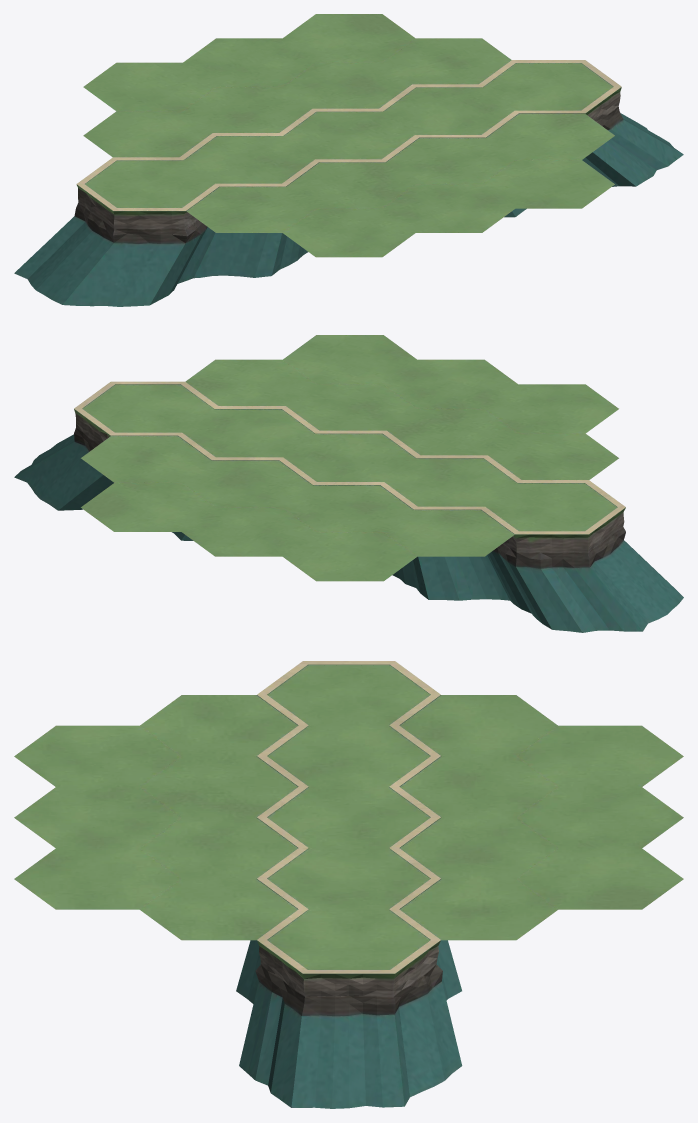
The model's file is island.glb.
3 renders of one model, top to bottom at view 1: azimuth 30°, elevation 25°; view 2: azimuth 150°, elevation 25°; view 3: azimuth 270°, elevation 25°, orthographic. The views are drawn at different scales.
Parts seen in each view (by area): view 1: island; view 2: island; view 3: island.
Boxes of the visible parts, left/top/right/bottom form: island: left=14, top=14, right=683, bottom=306; island: left=14, top=335, right=683, bottom=632; island: left=14, top=661, right=683, bottom=1108.
Size of the model in its own units: 12.56 by 1.51 by 9.24.
Materials: 1 (1 with a texture image).
